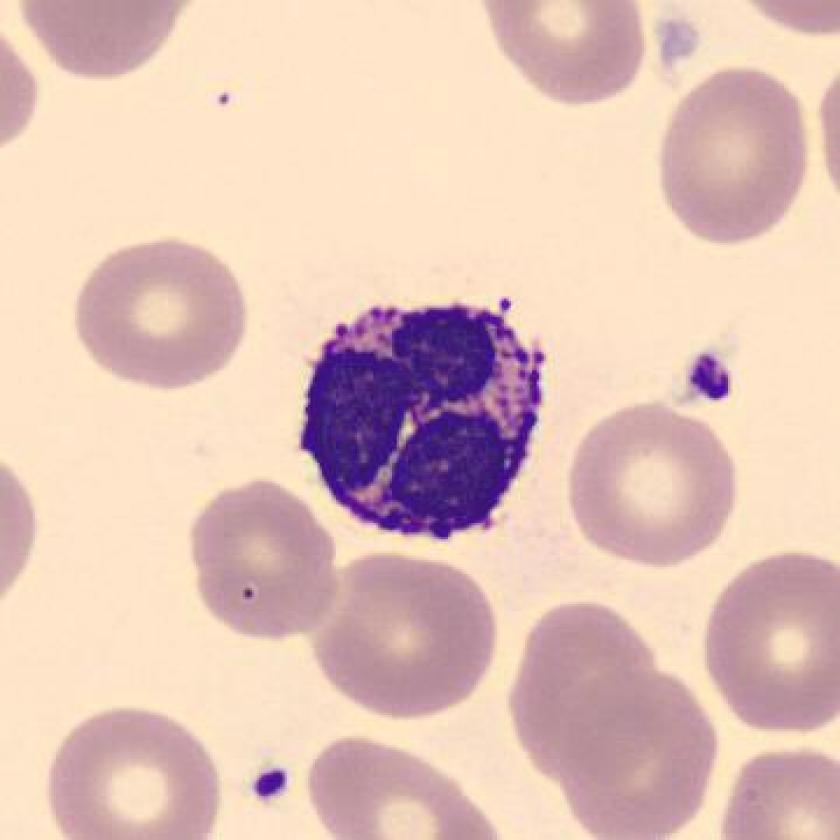basophil: (295, 290, 549, 554)
